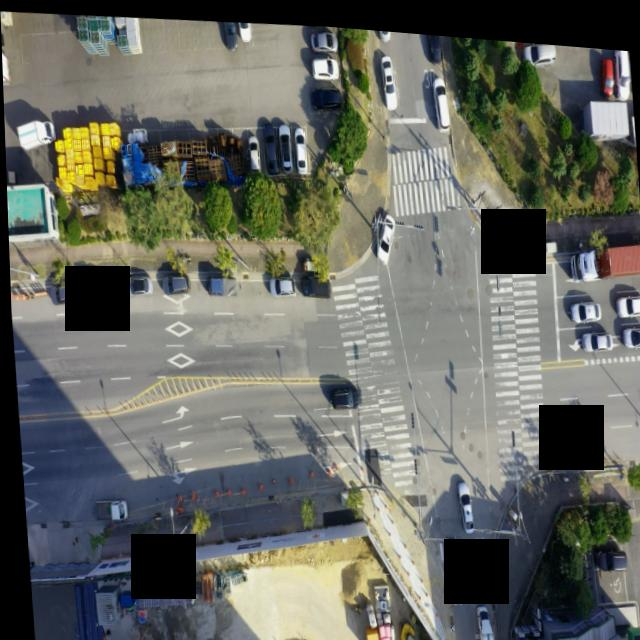car: (371, 206, 395, 260), (615, 39, 633, 92), (433, 69, 450, 122), (324, 377, 356, 404), (590, 537, 622, 564), (296, 269, 328, 296), (520, 33, 554, 58), (452, 473, 468, 526), (311, 77, 341, 104), (158, 267, 188, 294), (380, 49, 395, 102), (260, 120, 276, 169), (120, 271, 151, 296), (612, 282, 640, 309), (565, 289, 596, 313), (579, 317, 608, 342), (47, 280, 76, 305), (276, 121, 291, 168), (290, 121, 305, 168), (311, 49, 338, 74), (266, 270, 294, 294), (310, 22, 337, 45), (600, 48, 614, 89), (619, 312, 640, 338), (246, 132, 258, 166), (223, 17, 237, 46), (428, 27, 442, 56), (237, 18, 250, 36), (377, 24, 389, 34)
large_truck: (568, 226, 640, 276)
medium_truck: (1, 44, 9, 83), (183, 639, 212, 640)
small_truck: (14, 114, 55, 149), (78, 269, 111, 298), (202, 268, 238, 294), (88, 494, 122, 520), (470, 598, 489, 640)
